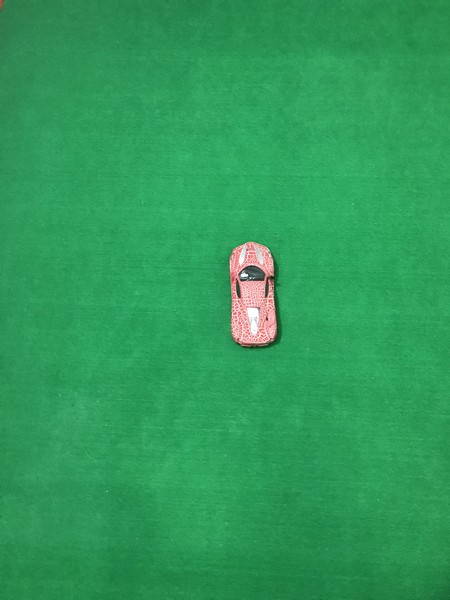RC: (227, 240, 283, 350)
